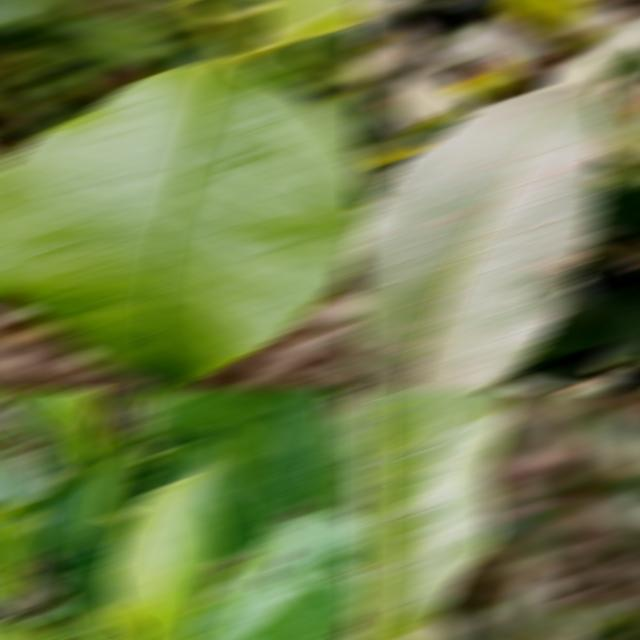Leaf: (0, 63, 364, 388), (352, 87, 608, 388), (352, 392, 511, 638), (187, 515, 364, 638), (107, 469, 221, 638), (214, 392, 325, 552), (42, 478, 134, 634), (142, 446, 250, 554), (295, 401, 357, 513), (78, 451, 134, 550), (63, 19, 175, 67), (136, 392, 231, 434), (53, 392, 106, 459), (579, 413, 637, 464), (103, 445, 148, 509), (318, 97, 364, 153), (9, 392, 74, 431), (0, 453, 46, 504), (0, 525, 30, 598), (43, 428, 90, 472), (599, 86, 640, 133)
